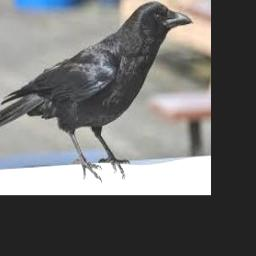Crow: (0, 0, 194, 179)
